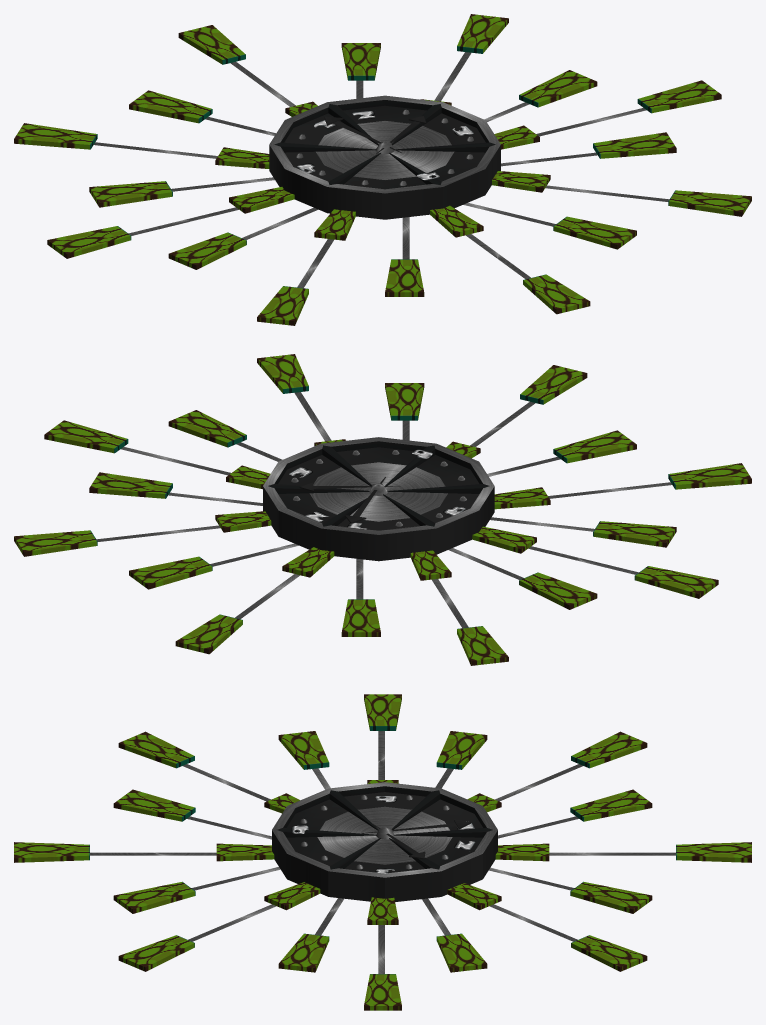
Rendered from Clock_01_B.FBX.
3 renders of one model, top to bottom at view 1: azimuth 30°, elevation 25°; view 2: azimuth 150°, elevation 25°; view 3: azimuth 270°, elevation 25°, orthographic. The views are drawn at different scales.
Parts seen in each view (by area): view 1: Starburst_Clock; view 2: Starburst_Clock; view 3: Starburst_Clock.
Boxes of the visible parts, x1,y1,x2,y2 form: Starburst_Clock: [14, 14, 751, 325]; Starburst_Clock: [14, 354, 751, 665]; Starburst_Clock: [14, 694, 751, 1010].
Bounding box in the file's own units: 78.3 × 3.32 × 78.3.
